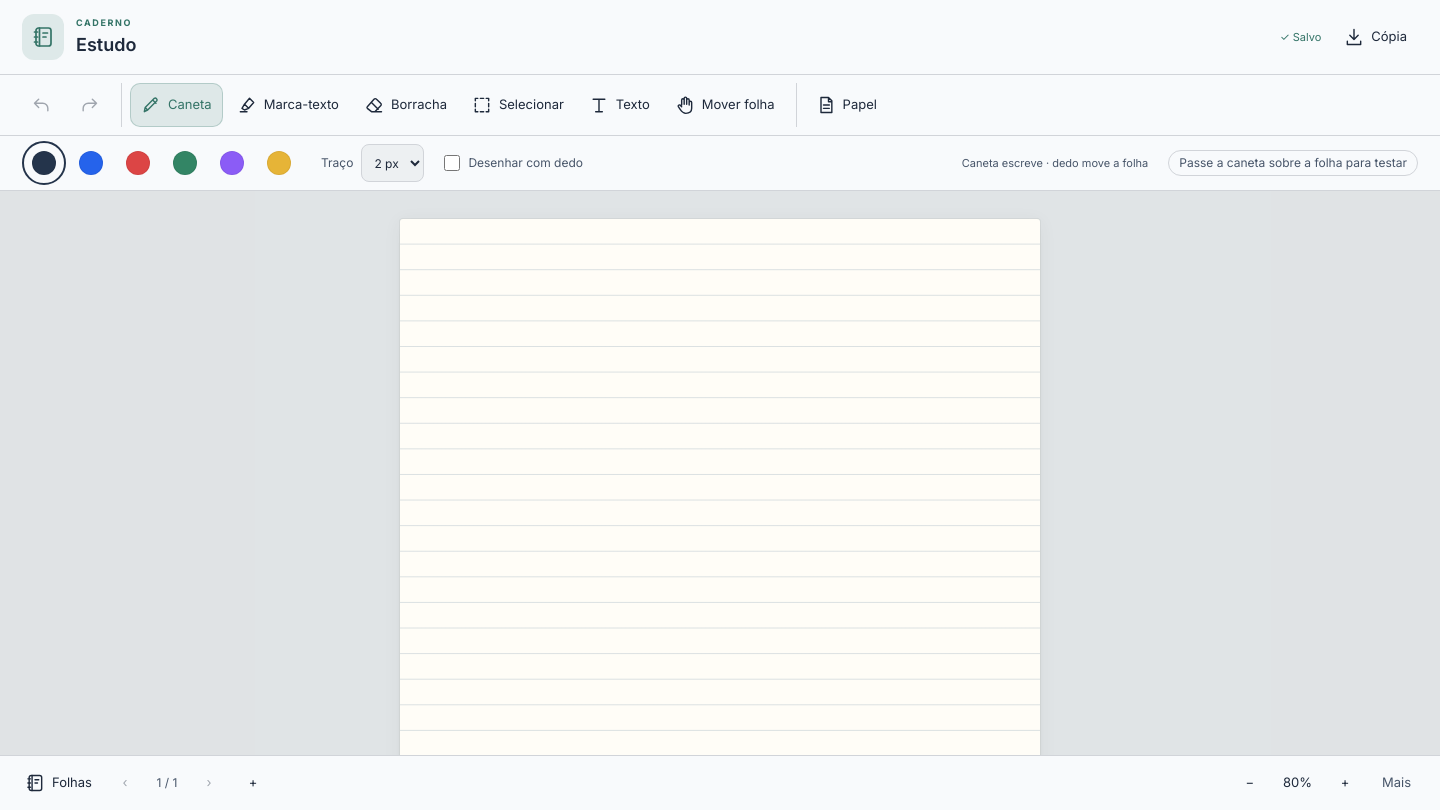
it: Notebook editor shortcuts and focus mode › undoes and redoes with Ctrl+Z, Ctrl+Y and Ctrl+Shift+Z
Expected: the element named "Ferramentas de escrita" is shown, [0,75,1439,136]
Expected: the field named "Título do caderno" is enabled, [76,31,1268,58]
Click the button "Mais" at [1396, 783], box [1367,761,1426,805]
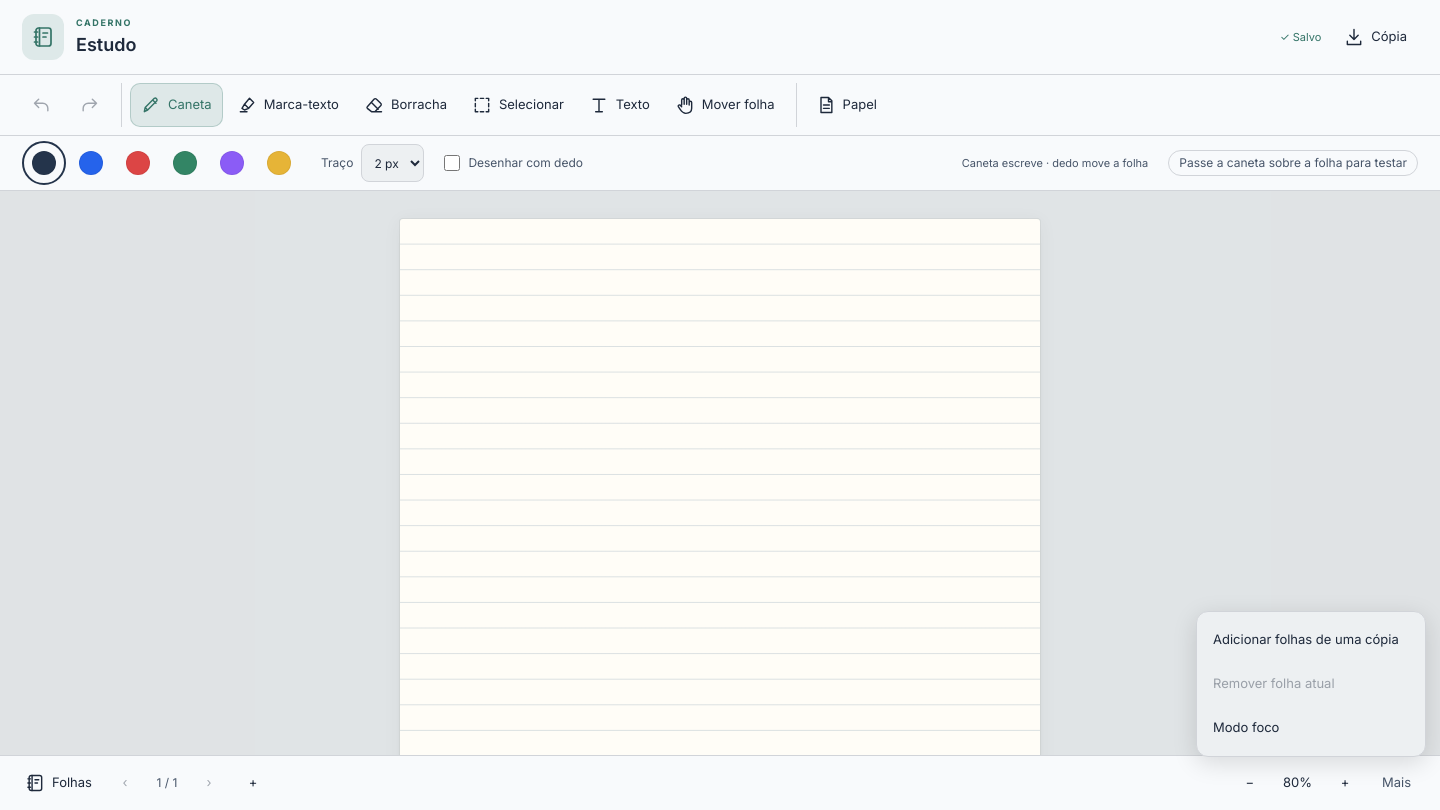
Click the button named "Adicionar folha" at [253, 783], box [231,761,275,805]
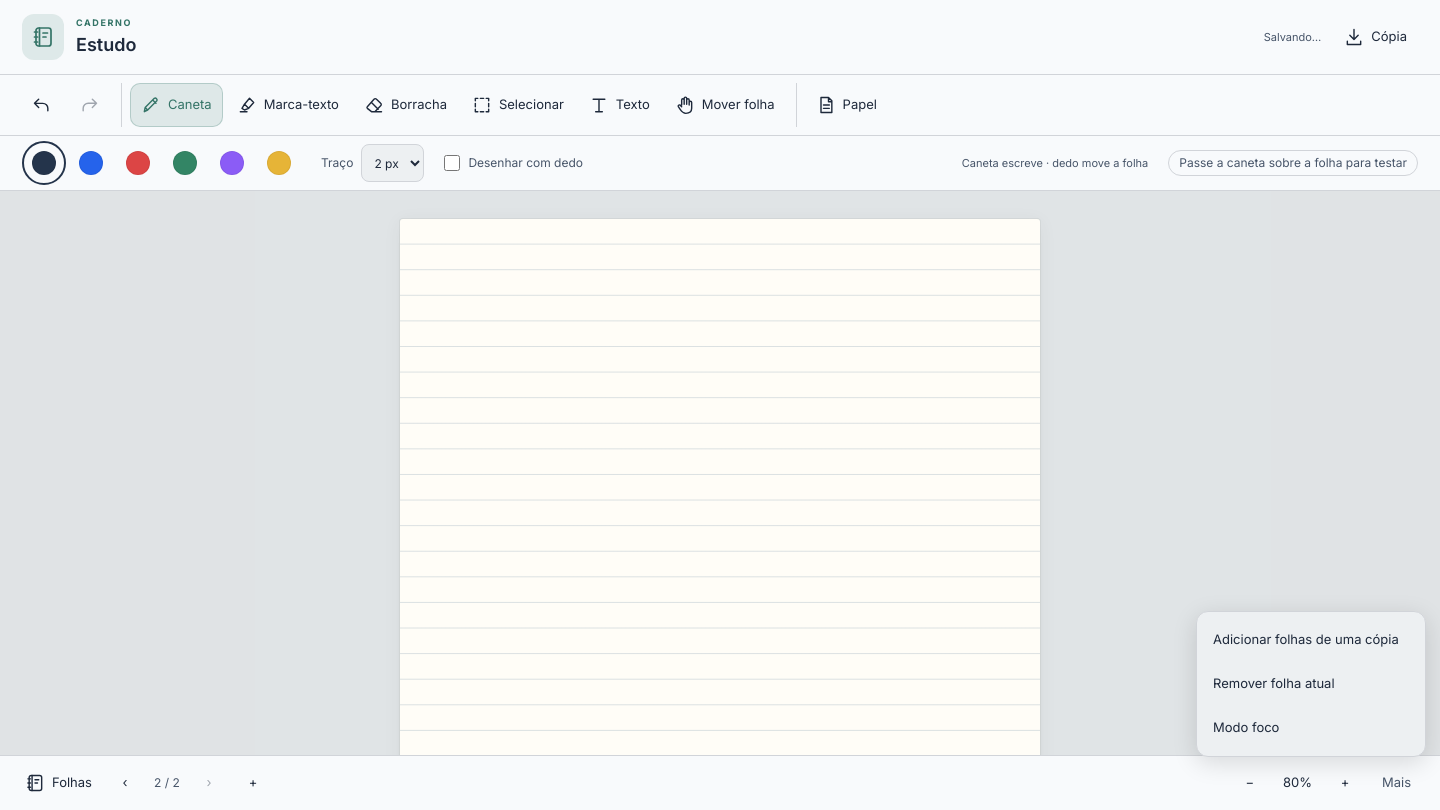
Result: the text "2 / 2" is shown at [154,775,180,790]
Press z in the element "CADERNO"
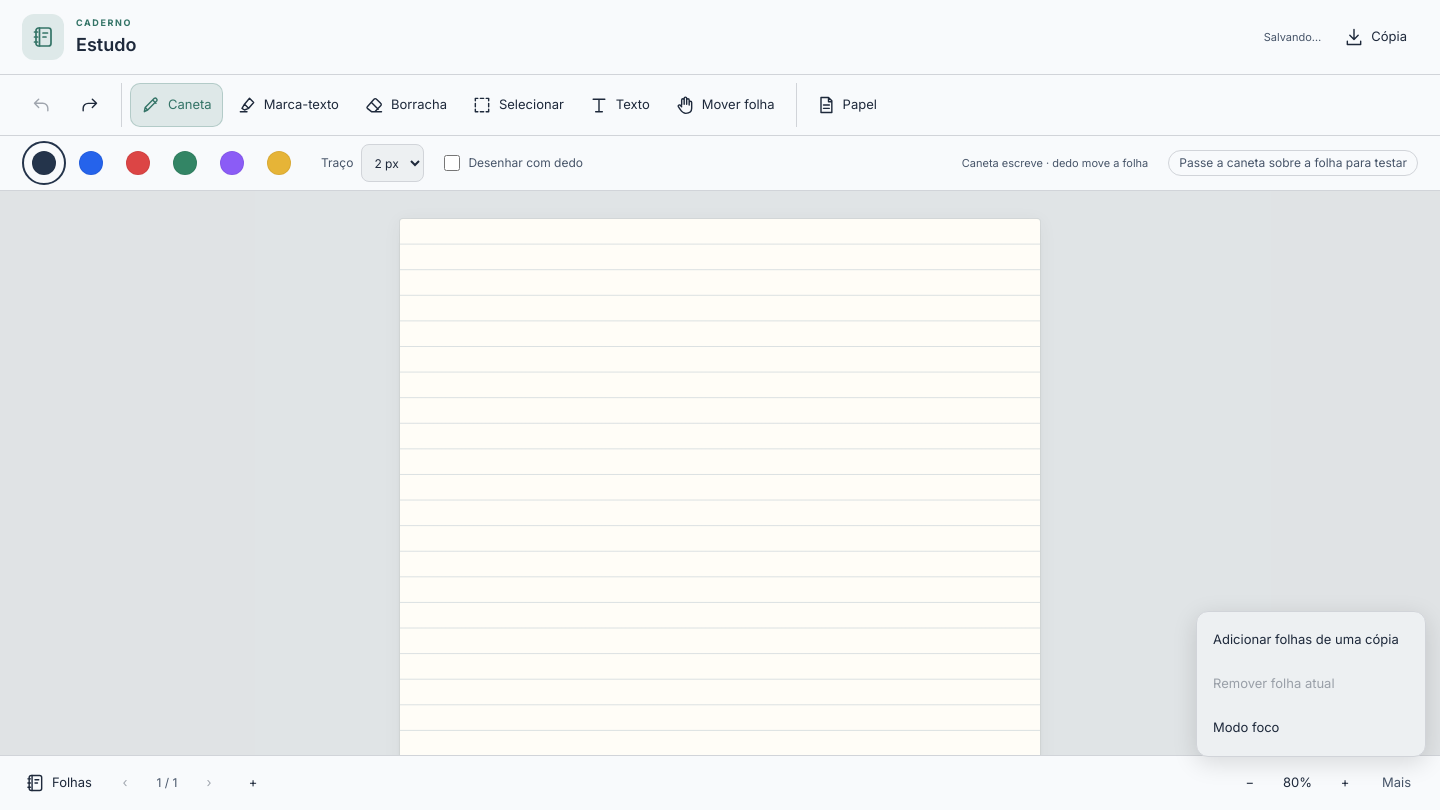
Result: the text "1 / 1" is shown at [156,775,177,790]
Press y in the element "CADERNO"
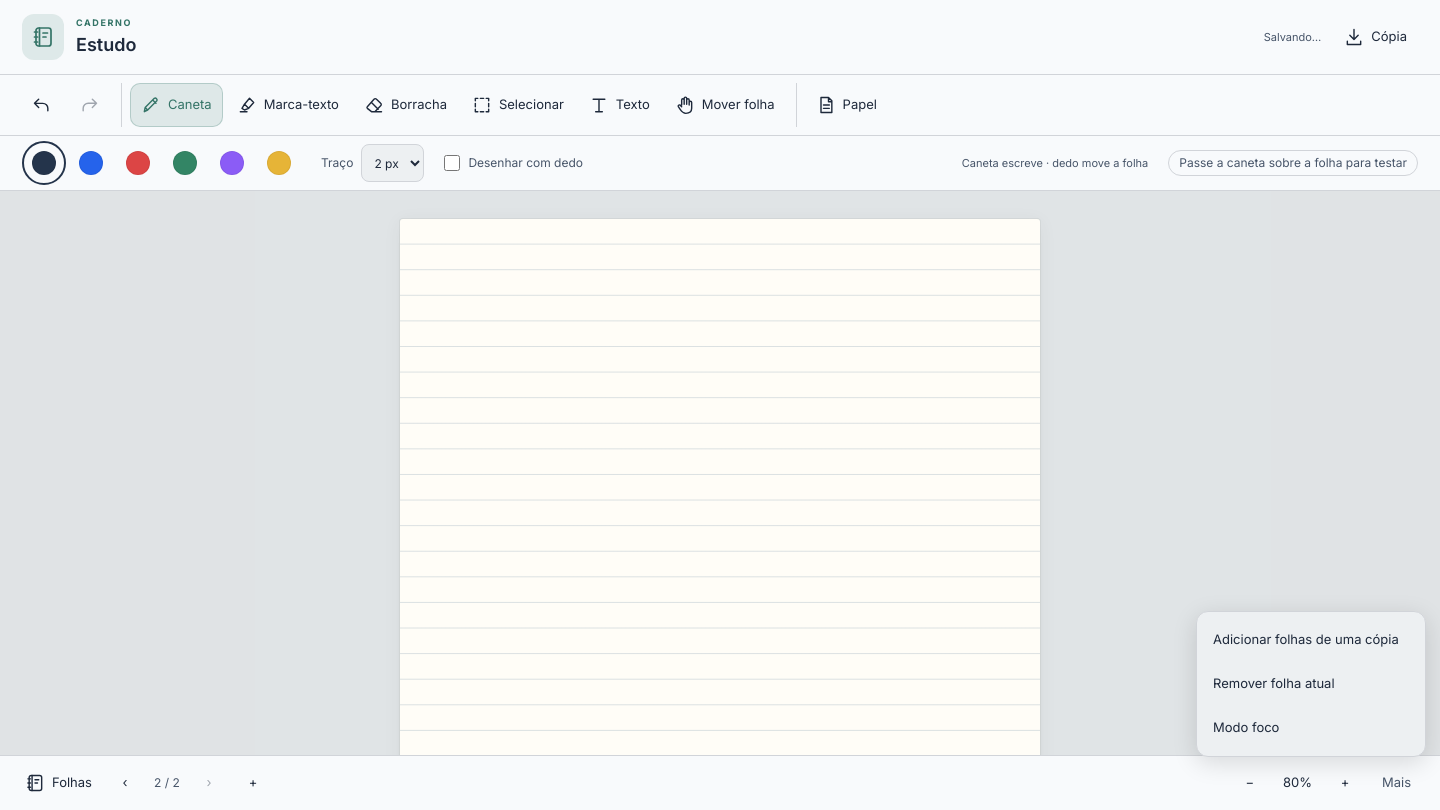
Result: the text "2 / 2" is shown at [154,775,180,790]
Press z in the element "CADERNO"
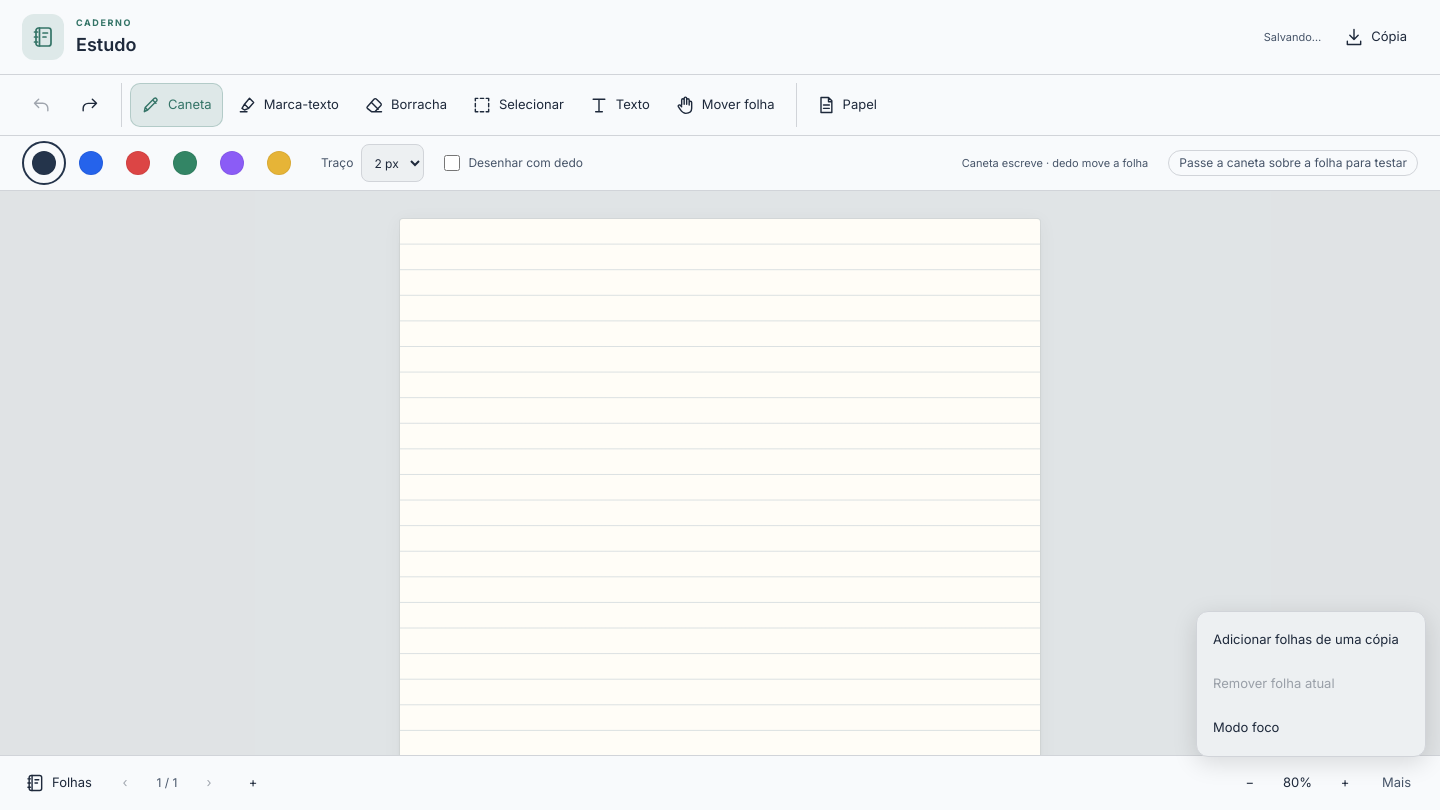
Press z in the element "CADERNO"
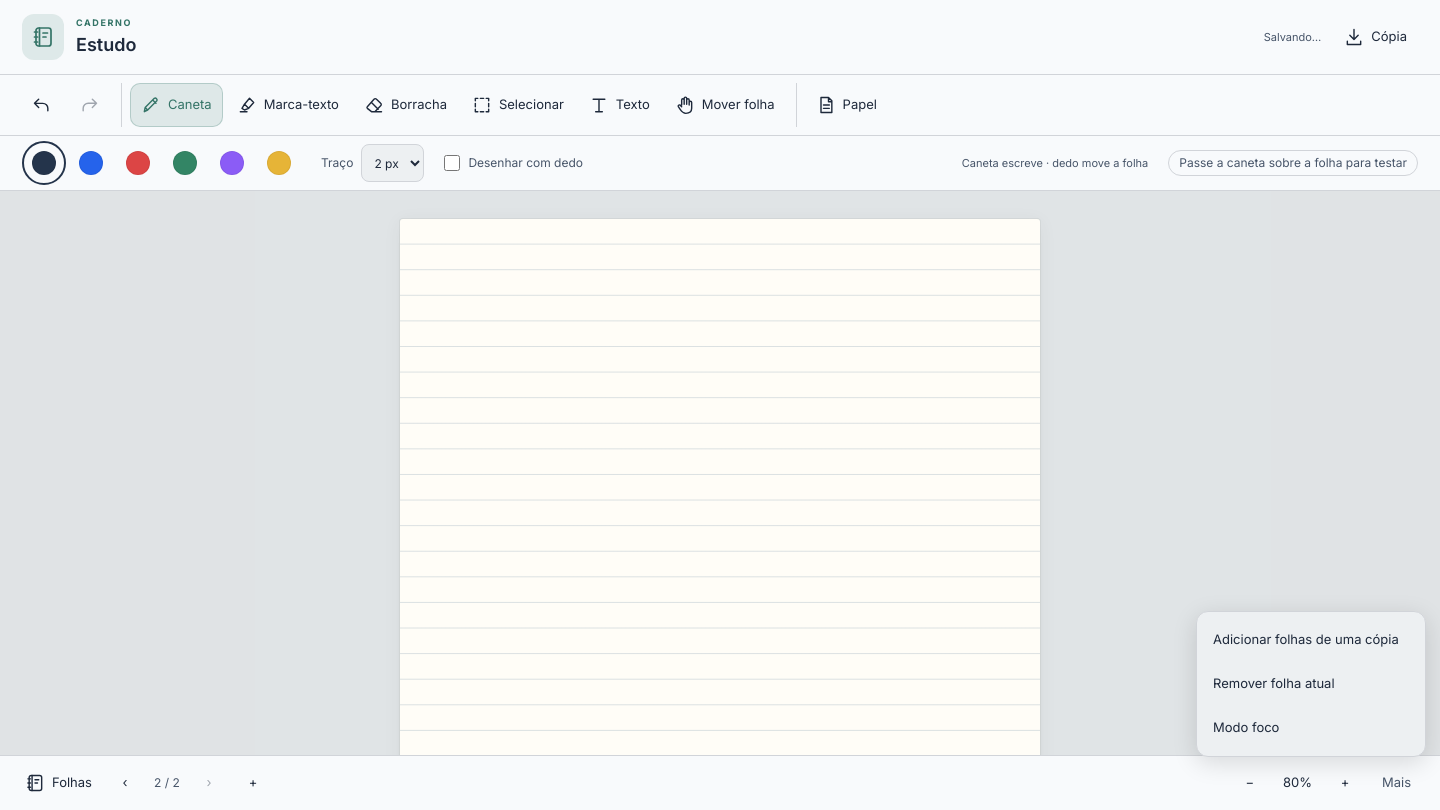
Result: the text "2 / 2" is shown at [154,775,180,790]
